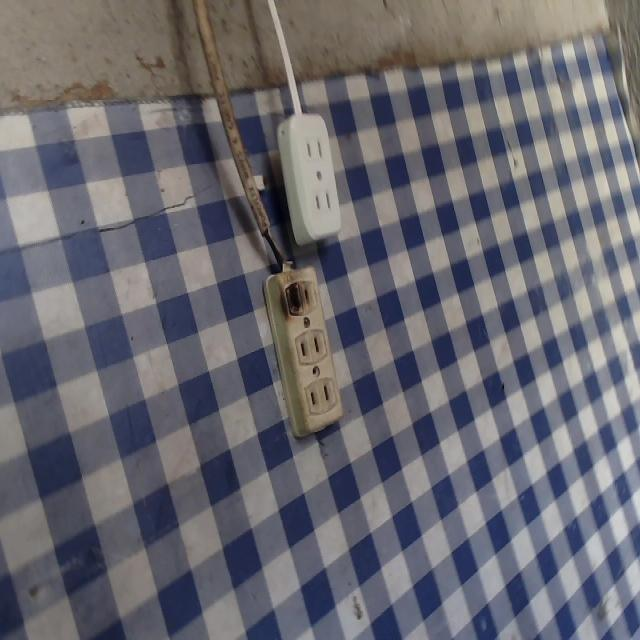-: (276, 278, 303, 318)
